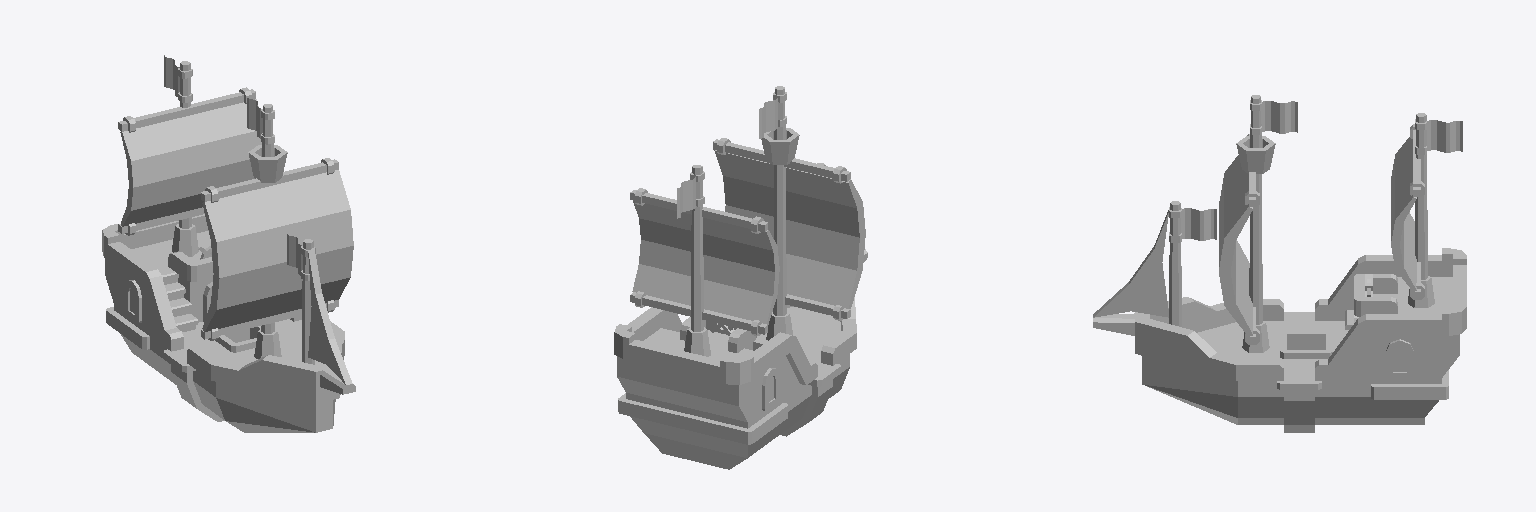
The model's file is ship-small.obj.
The picture shows the model from 3 angles: view 1: azimuth 30°, elevation 25°; view 2: azimuth 150°, elevation 25°; view 3: azimuth 270°, elevation 25°; orthographic projection.
Visible parts, largest first — view 1: ship-small, sail-a, sail-b, flag-c, flag-b, flag-a; view 2: ship-small, sail-a, sail-b, flag-b, flag-c; view 3: ship-small, sail-a, sail-b, flag-b, flag-a, flag-c.
Boxes of the visible parts, x1,y1,x2,y2 form: ship-small: [102, 61, 355, 432]; sail-a: [201, 158, 353, 340]; sail-b: [118, 87, 261, 235]; flag-c: [164, 55, 192, 102]; flag-b: [247, 98, 274, 144]; flag-a: [287, 234, 315, 280]; ship-small: [614, 86, 867, 469]; sail-a: [713, 138, 865, 320]; sail-b: [630, 188, 779, 335]; flag-b: [759, 92, 786, 138]; flag-c: [677, 171, 704, 218]; ship-small: [1093, 95, 1466, 432]; sail-a: [1219, 134, 1259, 344]; sail-b: [1391, 124, 1424, 299]; flag-b: [1250, 100, 1297, 134]; flag-a: [1169, 207, 1216, 242]; flag-c: [1415, 119, 1462, 154].
Size of the model in its own units: 4.8 by 9.96 by 10.6.